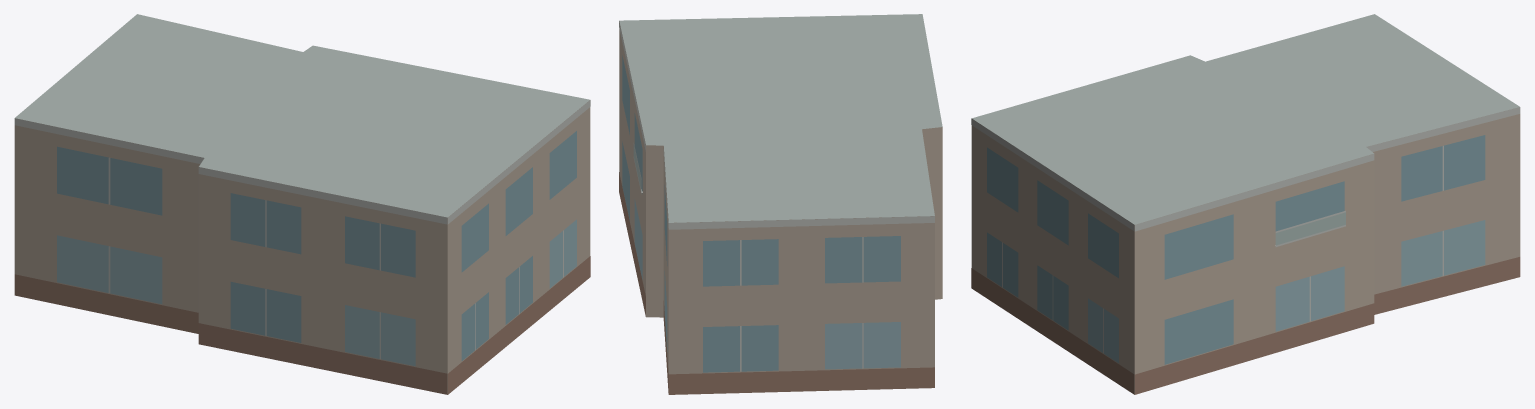
The model's file is survey-upis-32882669.glb.
3 renders of one model, left to right at view 1: azimuth 30°, elevation 25°; view 2: azimuth 150°, elevation 25°; view 3: azimuth 270°, elevation 25°, orthographic. The views are drawn at different scales.
Visible parts, largest first — view 1: survey-upis-32882669.tmp; view 2: survey-upis-32882669.tmp; view 3: survey-upis-32882669.tmp.
Part boxes in pixels (x1,y1,x2,y2): survey-upis-32882669.tmp: [14, 14, 590, 394]; survey-upis-32882669.tmp: [619, 14, 942, 394]; survey-upis-32882669.tmp: [971, 14, 1520, 394].
Bounding box in the file's own units: 16.23 × 6.1 × 17.85.
